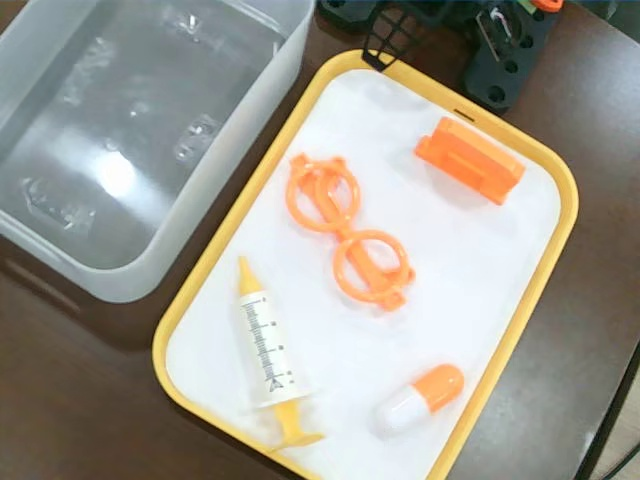pill: (369, 362, 467, 435)
syringe: (224, 249, 329, 455)
